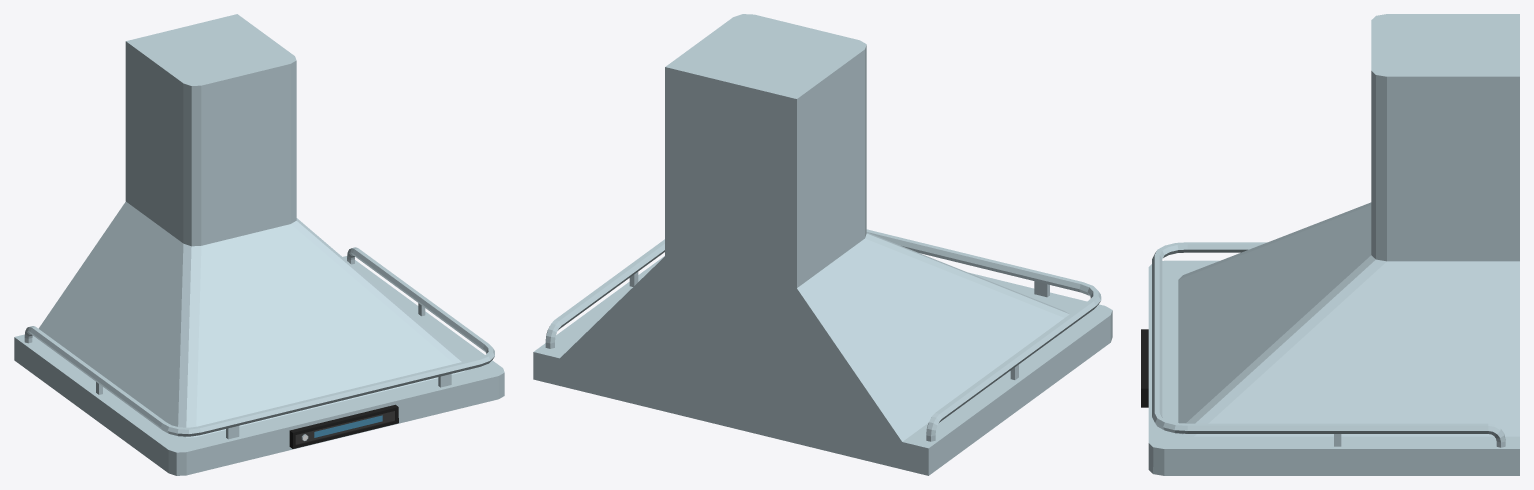
Rendered from KA-F600_Fan_V1.fbx.
The picture shows the model from 3 angles, left to right: view 1: azimuth 30°, elevation 25°; view 2: azimuth 150°, elevation 25°; view 3: azimuth 270°, elevation 25°; orthographic projection. The views are drawn at different scales.
Visible parts, largest first — view 1: KA-F600_Fan_V1; view 2: KA-F600_Fan_V1; view 3: KA-F600_Fan_V1.
Boxes of the visible parts, box(x1,y1,x2,y2) form: KA-F600_Fan_V1: box(14, 14, 504, 475); KA-F600_Fan_V1: box(533, 14, 1112, 475); KA-F600_Fan_V1: box(1141, 14, 1519, 475).
Size of the model in its own units: 60 by 50 by 51.
